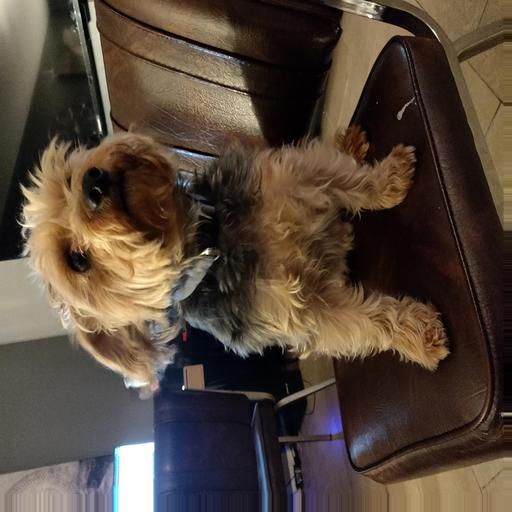dog: (31, 120, 308, 397)
